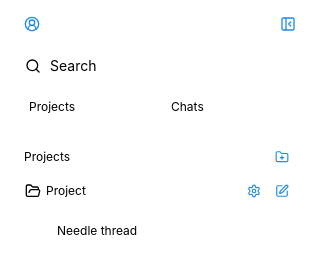
Scenario: WorkspaceSidebar project reorder › turns the expanded search action into a focused input
This screenshot has width=321, height=257.
Click the button "Search".
click(73, 65)  # box 16,50 -> 304,82
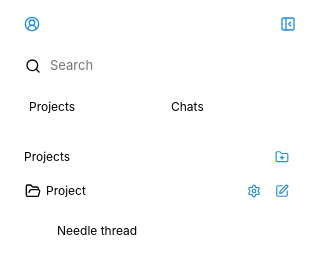
Type "needle" into the field labelled "Search".
click(173, 66); type("needle")  # box 50,58 -> 296,74
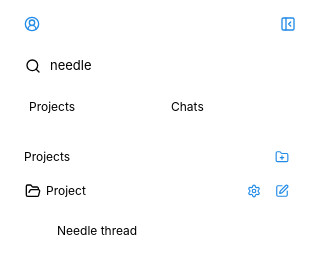
Expected: the button "Needle thread" is shown, 56,222 -> 264,240
Clear the field named "Search" at (173, 66), box 50,58 -> 296,74
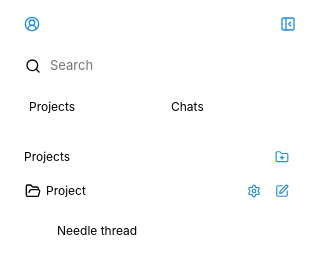
Leave the field labelled "Search", box 50,58 -> 296,74
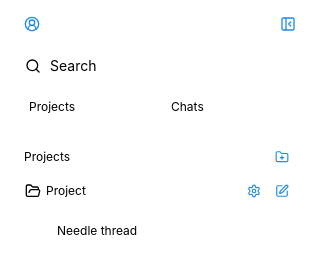
Expected: the button "Search" is shown, 16,50 -> 304,82
